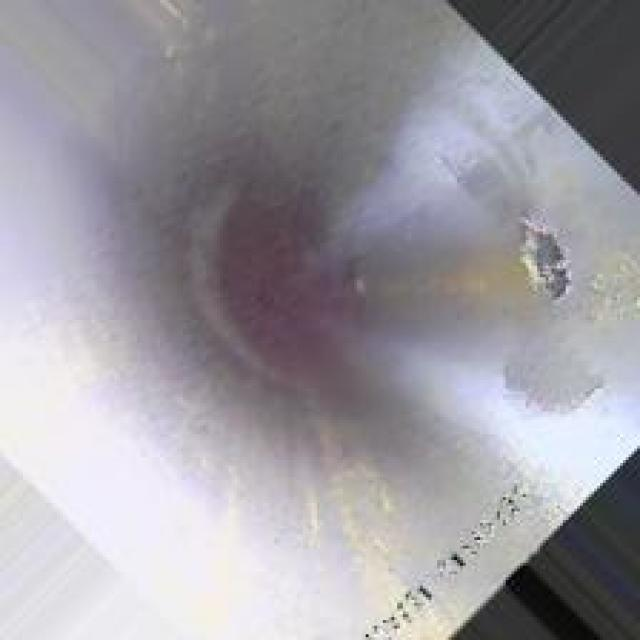ferrule: (509, 212, 580, 308)
